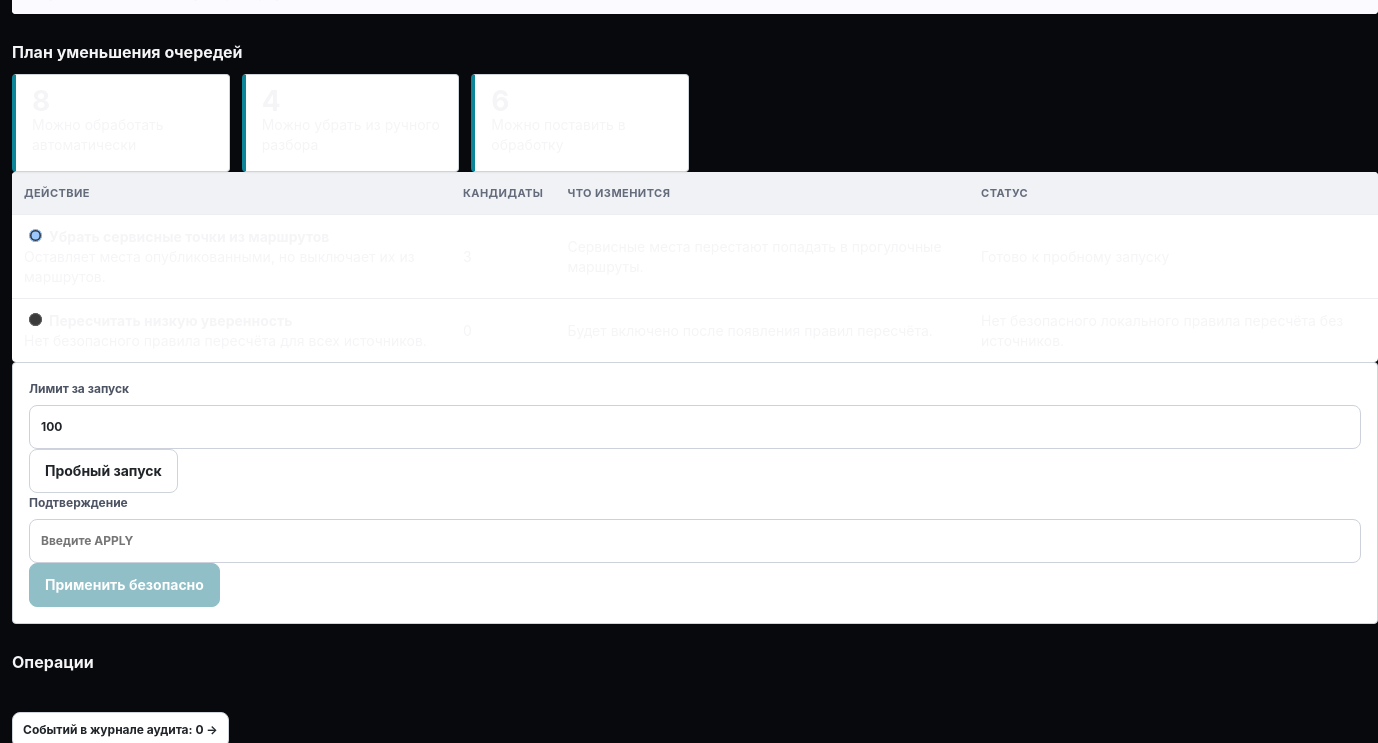
AdminOverviewPage product contract › runs dry run before enabling safe apply_new
(page scrolled)
Expected: the button "Применить безопасно" is disabled, [29, 563, 220, 607]
Step 1. Click the button "Пробный запуск" → (103, 471), box [29, 449, 178, 493]
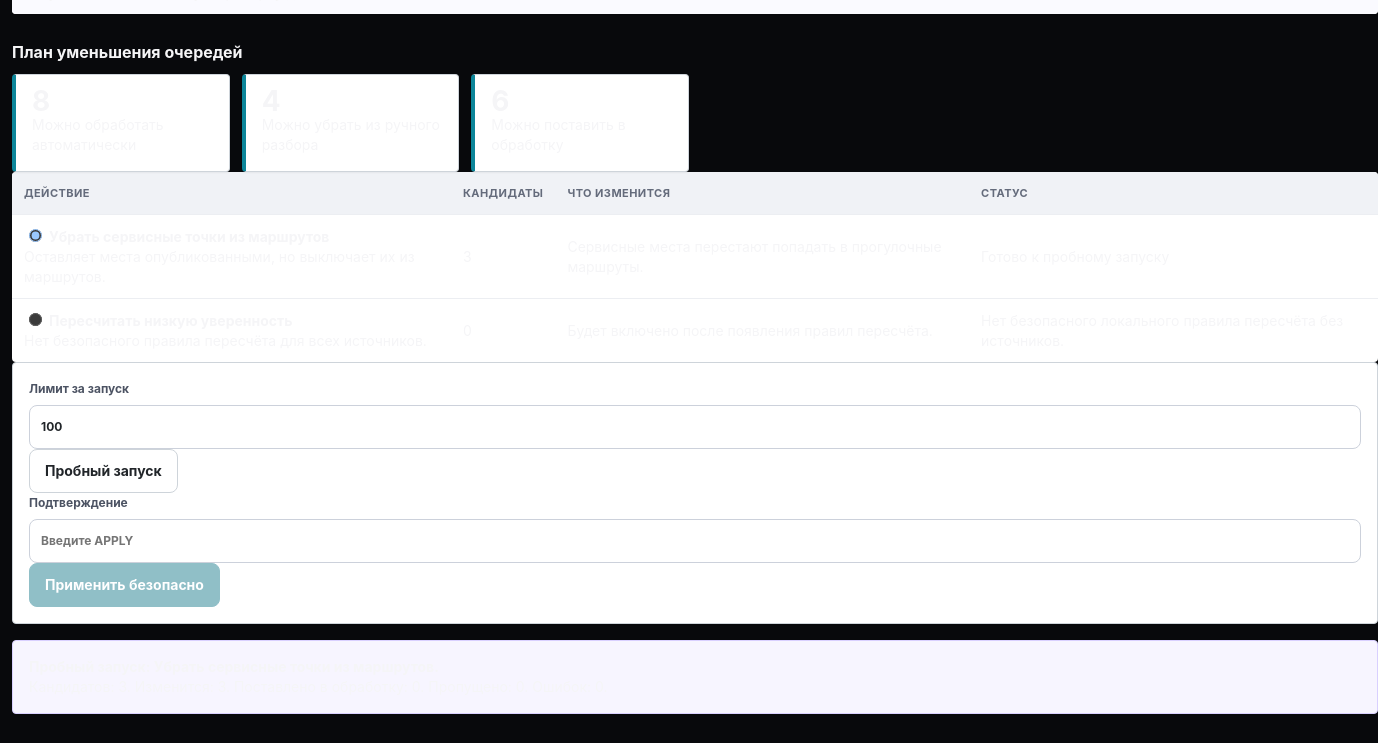
Now the element with test id "reduction-result" is shown, box [12, 640, 1377, 714]
